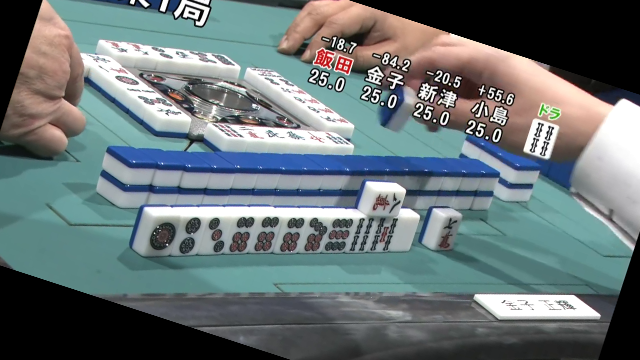Tehai: (129, 195, 470, 258)
